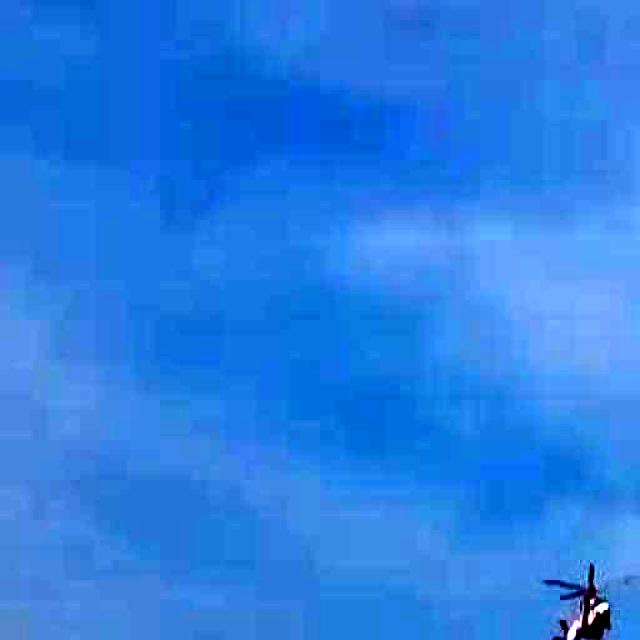drone: (529, 551, 640, 640)
